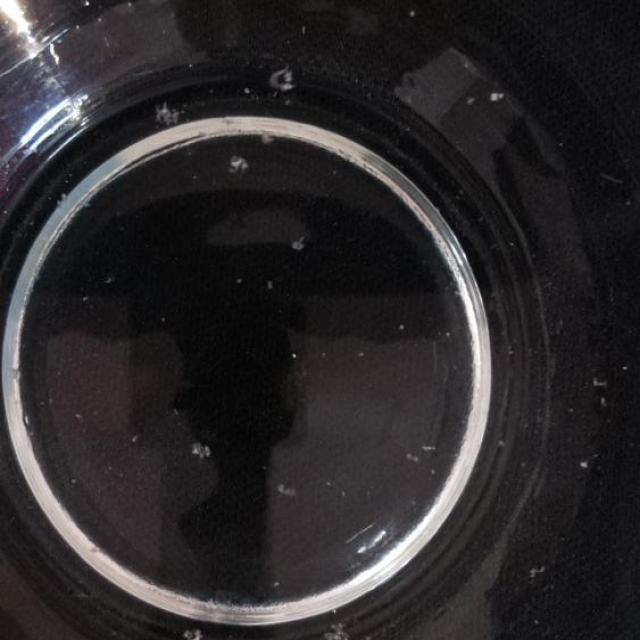fiber: (184, 428, 220, 467), (265, 60, 303, 96), (146, 100, 187, 130), (319, 618, 373, 639), (224, 148, 258, 179), (483, 81, 513, 114), (273, 471, 300, 502), (280, 228, 310, 254), (170, 623, 206, 639), (413, 434, 443, 453), (404, 444, 425, 470), (526, 556, 550, 577), (254, 128, 278, 146)
